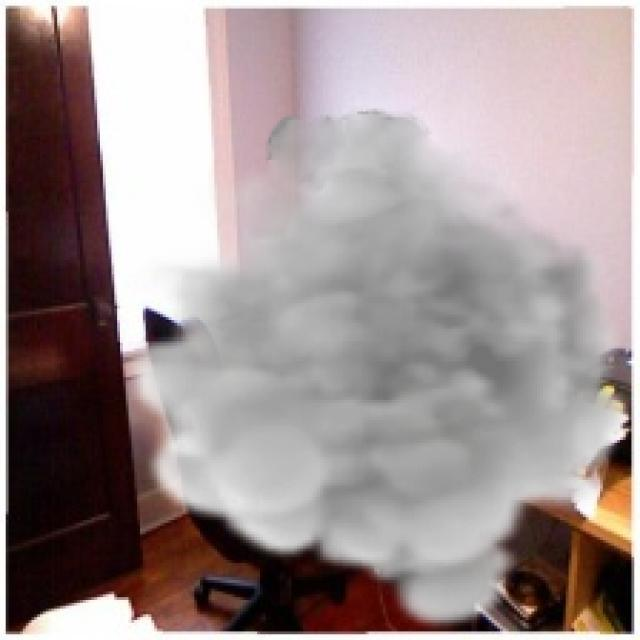Smoke: (120, 106, 634, 634)
